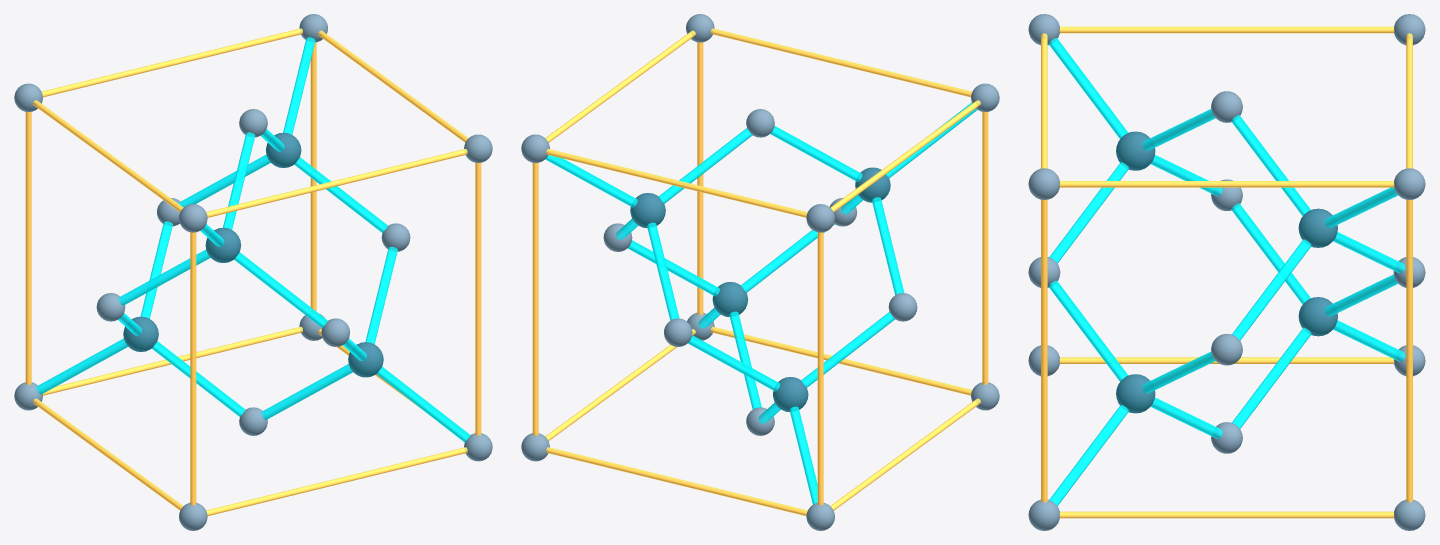
The model's file is diamond-unit-cell_NIH3D.glb.
3 renders of one model, left to right at view 1: azimuth 30°, elevation 25°; view 2: azimuth 150°, elevation 25°; view 3: azimuth 270°, elevation 25°, orthographic. The views are drawn at different scales.
Visible parts, largest first — view 1: unit_cell_frame, covalent_bond_network, C_tetra_16, C_tetra_14, C_tetra_15, C_tetra_17, C_face_13, C_corner_3, C_face_8, C_face_9, C_face_11, C_face_10 (+6 smaller); view 2: unit_cell_frame, covalent_bond_network, C_tetra_17, C_tetra_14, C_tetra_16, C_tetra_15, C_face_12, C_corner_2, C_face_8, C_face_11, C_corner_0, C_corner_6 (+6 smaller); view 3: covalent_bond_network, unit_cell_frame, C_tetra_15, C_tetra_16, C_tetra_17, C_tetra_14, C_face_9, C_corner_6, C_corner_7, C_face_11, C_corner_4, C_corner_5 (+8 smaller).
Part boxes in pixels (left/top/right/bottom): unit_cell_frame: left=25, top=28, right=481, bottom=515; covalent_bond_network: left=36, top=37, right=470, bottom=442; C_tetra_16: left=348, top=342, right=383, bottom=377; C_tetra_14: left=123, top=316, right=158, bottom=351; C_tetra_15: left=205, top=227, right=241, bottom=262; C_tetra_17: left=266, top=132, right=301, bottom=167; C_face_13: left=321, top=318, right=349, bottom=346; C_corner_3: left=179, top=204, right=207, bottom=232; C_face_8: left=96, top=293, right=125, bottom=321; C_face_9: left=381, top=223, right=410, bottom=251; C_face_11: left=239, top=109, right=267, bottom=137; C_face_10: left=239, top=407, right=267, bottom=435; unit_cell_frame: left=532, top=28, right=988, bottom=515; covalent_bond_network: left=545, top=102, right=977, bottom=504; C_tetra_17: left=630, top=193, right=665, bottom=227; C_tetra_14: left=773, top=377, right=808, bottom=411; C_tetra_16: left=712, top=282, right=748, bottom=316; C_tetra_15: left=855, top=167, right=890, bottom=202; C_face_12: left=664, top=318, right=692, bottom=346; C_corner_2: left=806, top=204, right=834, bottom=232; C_face_8: left=888, top=293, right=917, bottom=321; C_face_11: left=746, top=109, right=774, bottom=137; C_corner_0: left=806, top=502, right=834, bottom=530; C_corner_6: left=521, top=134, right=549, bottom=162; covalent_bond_network: left=1048, top=38, right=1405, bottom=505; unit_cell_frame: left=1041, top=26, right=1412, bottom=518; C_tetra_15: left=1116, top=131, right=1155, bottom=170; C_tetra_16: left=1116, top=374, right=1155, bottom=413; C_tetra_17: left=1298, top=208, right=1337, bottom=247; C_tetra_14: left=1298, top=297, right=1337, bottom=336; C_face_9: left=1211, top=334, right=1242, bottom=365; C_corner_6: left=1394, top=168, right=1425, bottom=199; C_corner_7: left=1028, top=168, right=1059, bottom=199; C_face_11: left=1211, top=91, right=1242, bottom=122; C_corner_4: left=1394, top=499, right=1425, bottom=530; C_corner_5: left=1028, top=499, right=1059, bottom=530.
Bounding box in the file's own units: 2.61 × 2.61 × 2.61.
